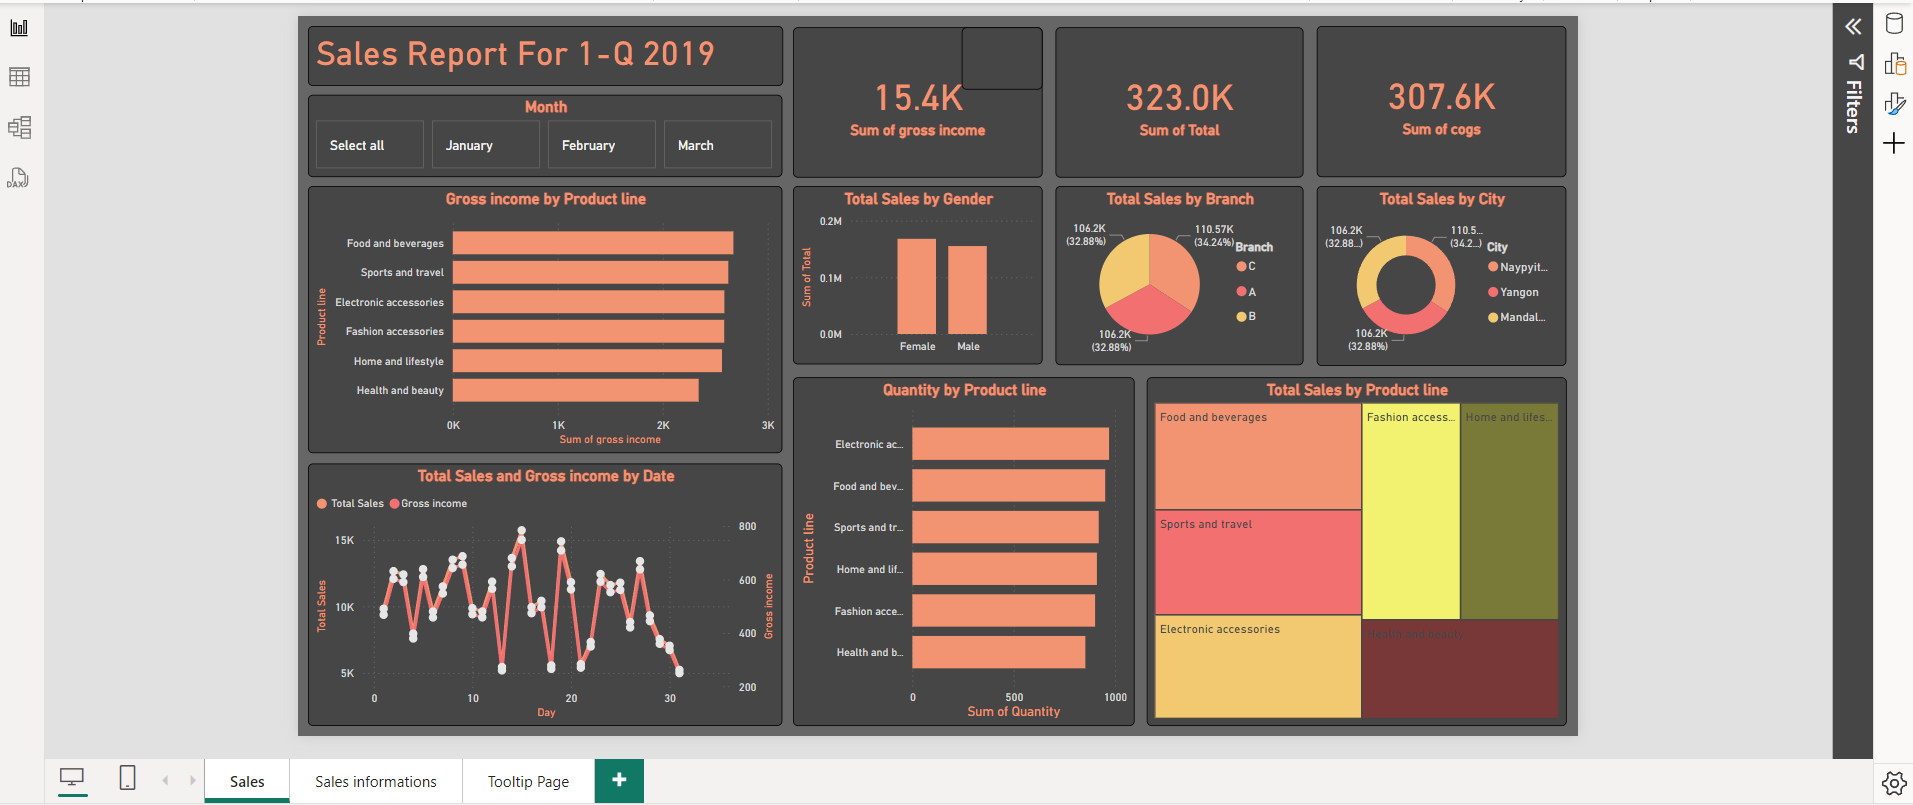

The dashboard page shown, as its layout file describes it:
{"tool":"powerbi","page":{"name":"Sales","canvas":[1280,720],"ordinal":0},"visuals":[{"type":"card","fields":{"Values":["Sum(supermarket_sales.gross income)"]},"box":[494.9,11.5,249.6,150],"z":0},{"type":"card","fields":{"Values":["Sum(supermarket_sales.cogs)"]},"box":[1018.6,10.1,249.6,151.5],"z":1000},{"type":"pieChart","title":"Total Sales by Branch","fields":{"Category":["supermarket_sales.Branch"],"Y":["Sum(supermarket_sales.Total)"]},"box":[757.4,170,248.2,178.9],"z":2000},{"type":"card","fields":{"Values":["Sum(supermarket_sales.Total)"]},"box":[757.4,11.5,248.2,150],"z":3000},{"type":"donutChart","title":"Total Sales by City","fields":{"Category":["supermarket_sales.City"],"Y":["Sum(supermarket_sales.Total)"]},"box":[1018.6,170,249.6,180.3],"z":4000},{"type":"treemap","title":"Total Sales by Product line","fields":{"Group":["supermarket_sales.Product line"],"Values":["Sum(supermarket_sales.Total)"]},"box":[848.3,360.7,419.8,349.1],"z":5000},{"type":"clusteredColumnChart","title":"Total Sales by Gender","fields":{"Category":["supermarket_sales.Gender"],"Y":["Sum(supermarket_sales.Total)"]},"box":[494.9,170,249.6,178],"z":6000},{"type":"lineChart","title":"Total Sales and Gross income by Date","fields":{"Y":["Sum(supermarket_sales.Total)"],"Category":["supermarket_sales.Date Hierarchy.Year","supermarket_sales.Date Hierarchy.Quarter","supermarket_sales.Date Hierarchy.Month","supermarket_sales.Date Hierarchy.Day"],"Y2":["Sum(supermarket_sales.gross income)"]},"box":[10.1,447.3,474.7,262.6],"z":7000},{"type":"clusteredBarChart","title":"Gross income by Product line","fields":{"Category":["supermarket_sales.Product line"],"Y":["Sum(supermarket_sales.gross income)"]},"box":[10.1,170.2,474.7,266.9],"z":8000},{"type":"clusteredBarChart","title":"Quantity by Product line","fields":{"Category":["supermarket_sales.Product line"],"Y":["Sum(supermarket_sales.Quantity)"]},"box":[494.9,360.7,341.9,349.1],"z":9000},{"type":"textbox","box":[10.1,10.1,475,60],"z":10000},{"type":"advancedSlicerVisual","title":"Month ","fields":{"Values":["supermarket_sales.Date Hierarchy.Month"]},"box":[10.1,79.4,474.7,82.2],"z":11000},{"type":"card","fields":{"Values":["Min(supermarket_sales.Tooltip)"]},"box":[663.7,11.5,80.8,62],"z":12000}]}

Visuals, with their boxes on the page's 1280x720 design canvas (x1, y1, x2, y2). These are canvas units, not pixel positions in the 1913x805 screenshot, which may show the page scaled, cropped or inside an application window:
card - Sum(supermarket_sales.gross income): box=[495, 12, 744, 162]
card - Sum(supermarket_sales.cogs): box=[1019, 10, 1268, 162]
"Total Sales by Branch" pieChart: box=[757, 170, 1006, 349]
card - Sum(supermarket_sales.Total): box=[757, 12, 1006, 162]
"Total Sales by City" donutChart: box=[1019, 170, 1268, 350]
"Total Sales by Product line" treemap: box=[848, 361, 1268, 710]
"Total Sales by Gender" clusteredColumnChart: box=[495, 170, 744, 348]
"Total Sales and Gross income by Date" lineChart: box=[10, 447, 485, 710]
"Gross income by Product line" clusteredBarChart: box=[10, 170, 485, 437]
"Quantity by Product line" clusteredBarChart: box=[495, 361, 837, 710]
textbox: box=[10, 10, 485, 70]
"Month " advancedSlicerVisual: box=[10, 79, 485, 162]
card - Min(supermarket_sales.Tooltip): box=[664, 12, 744, 74]
